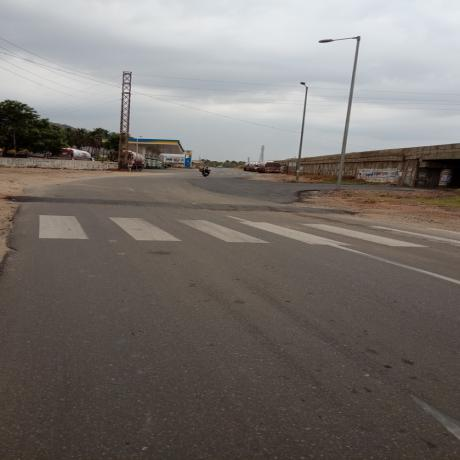Speed Bump: (8, 196, 356, 214)
